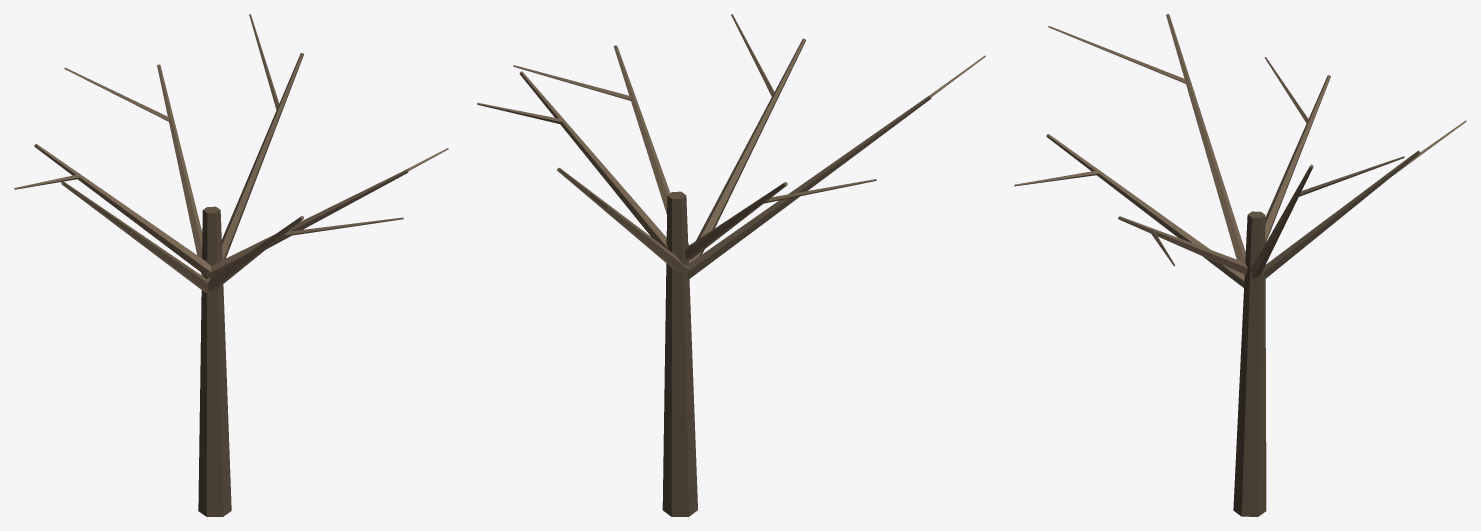
Rendered from columnar-v1-winter.glb.
3 views of the same model, side by side, from view 1: azimuth 30°, elevation 25°; view 2: azimuth 150°, elevation 25°; view 3: azimuth 270°, elevation 25° (orthographic). The views are drawn at different scales.
Visible parts, largest first — view 1: columnar_v1; view 2: columnar_v1; view 3: columnar_v1.
Boxes of the visible parts, <box> form: columnar_v1: <box>14,14,448,516</box>; columnar_v1: <box>477,14,985,516</box>; columnar_v1: <box>1014,14,1466,516</box>.
Size of what is drawn, in the model's own units: 7.03 by 7.11 by 7.12.
